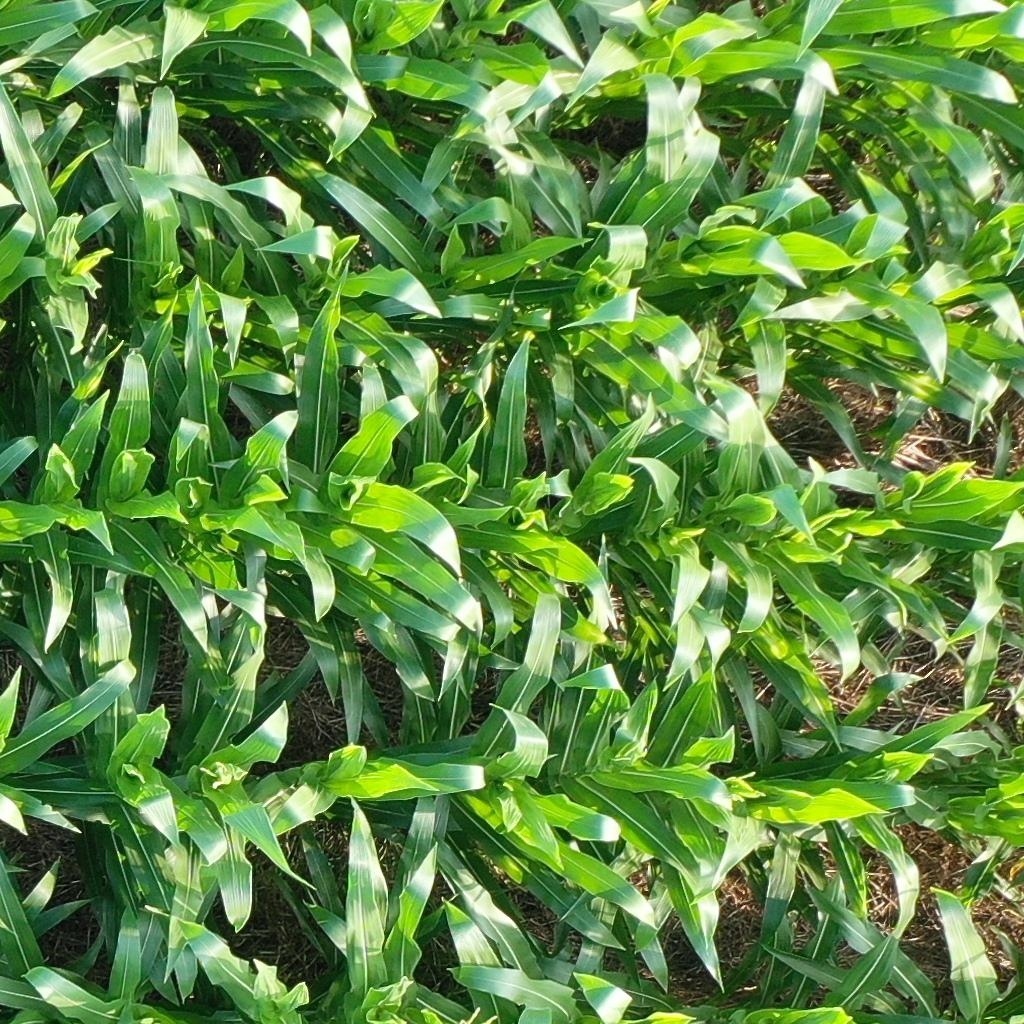Tassel: (723, 770, 768, 804), (615, 735, 650, 766), (455, 1003, 504, 1024)
